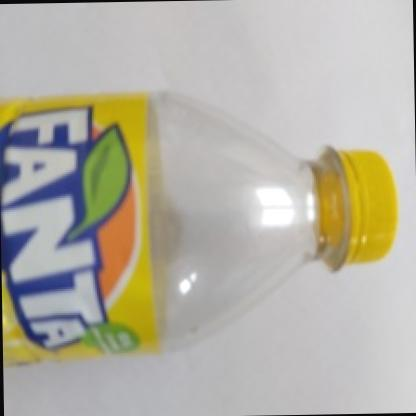plastic_bottles: (0, 87, 408, 357)
